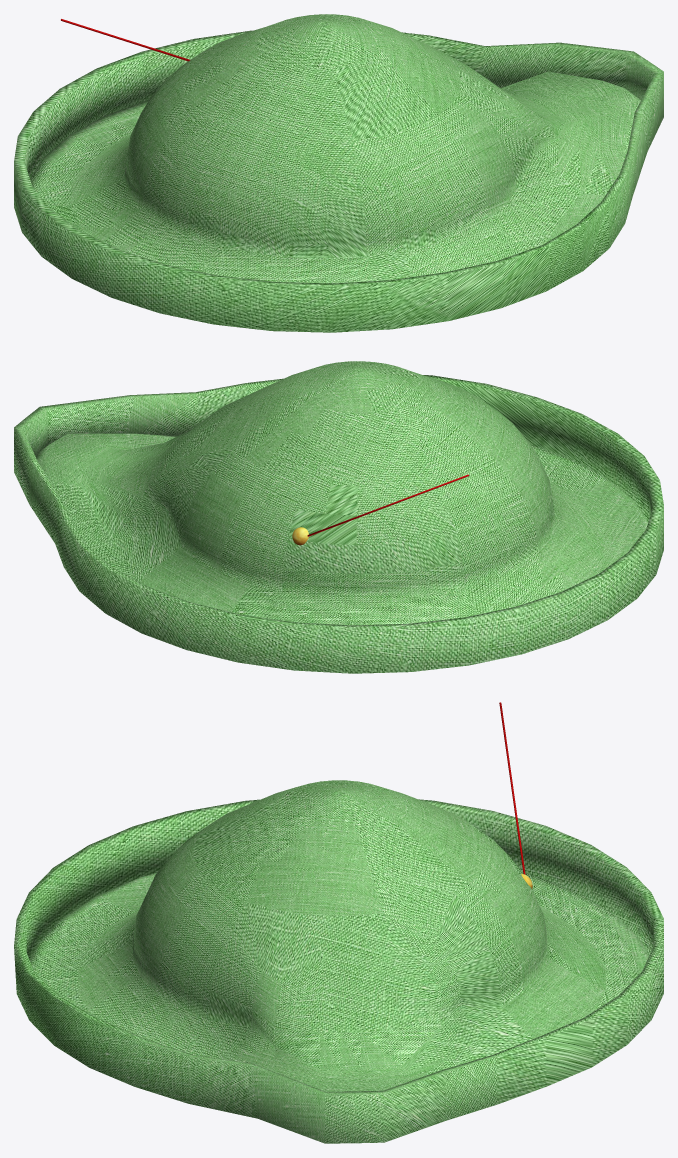
Rendered from chapeau archer.fbx.
3 views of the same model, one above another, from view 1: azimuth 30°, elevation 25°; view 2: azimuth 150°, elevation 25°; view 3: azimuth 270°, elevation 25° (orthographic). The views are drawn at different scales.
Visible parts, largest first — view 1: Sphere; view 2: Sphere; view 3: Sphere.
Part boxes in pixels (<box>): Sphere: <box>14,14,663,332</box>; Sphere: <box>14,361,663,673</box>; Sphere: <box>14,780,663,1143</box>.
Size of the model in its own units: 692 by 198 by 614.
